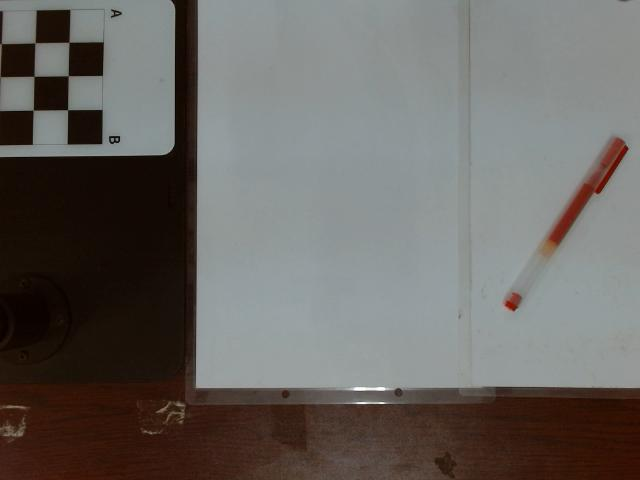PEN: (498, 133, 632, 314)
